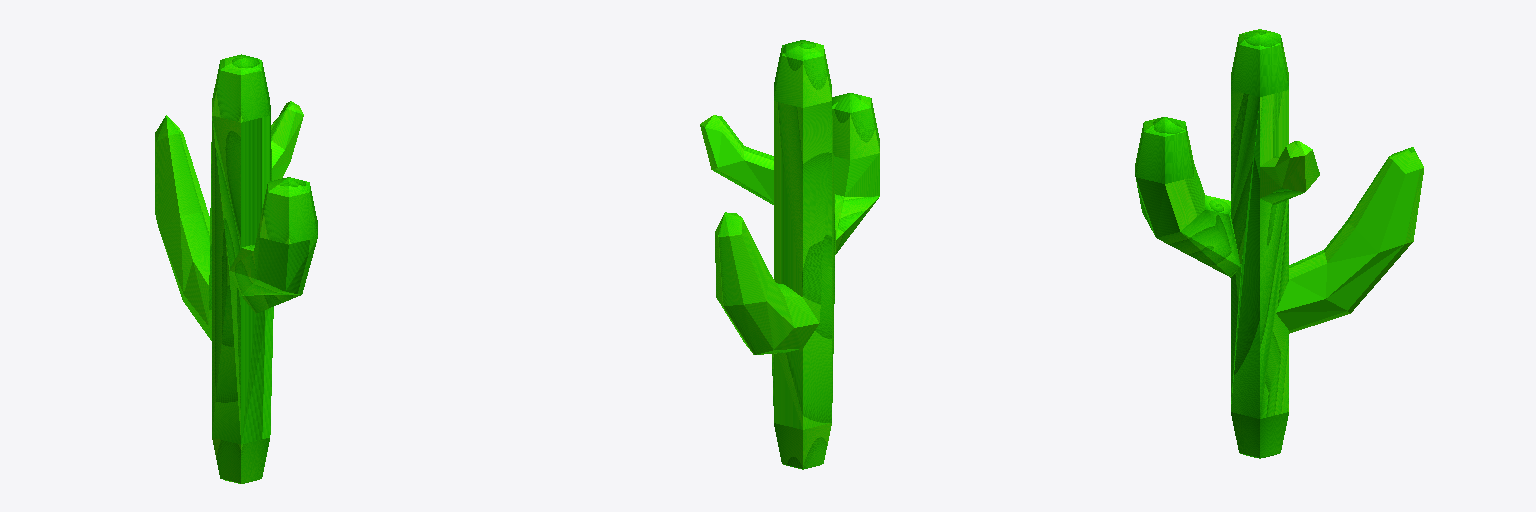
3 views of the same model, side by side, from view 1: azimuth 30°, elevation 25°; view 2: azimuth 150°, elevation 25°; view 3: azimuth 270°, elevation 25° (orthographic).
Parts seen in each view (by area): view 1: Cactus; view 2: Cactus; view 3: Cactus.
Part boxes in pixels (left/top/right/bottom): Cactus: left=155, top=54, right=317, bottom=483; Cactus: left=700, top=40, right=879, bottom=469; Cactus: left=1135, top=29, right=1423, bottom=458.
Size of the model in its own units: 6.49 by 23.5 by 14.58.
1 materials, 1 textured.